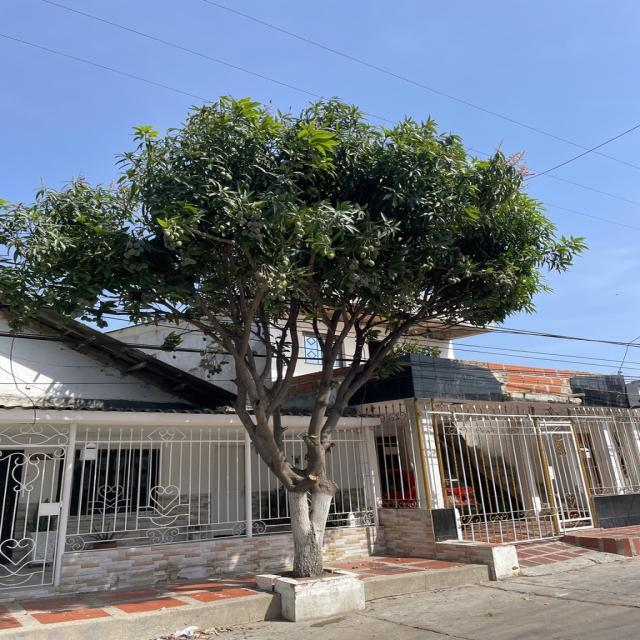Mango-Tree: (26, 81, 589, 579)
